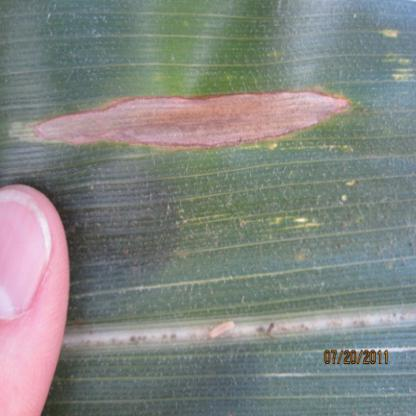corn gray leaf spot: (8, 42, 400, 189)
